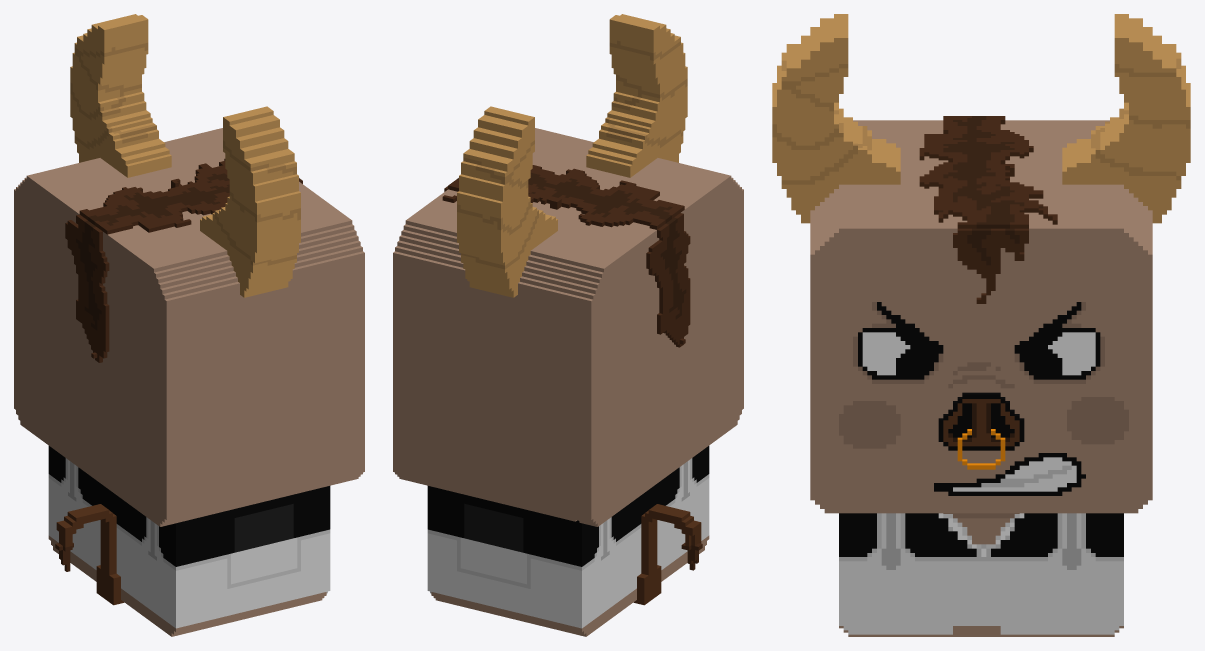
The model's file is NPC_7.obj.
3 renders of one model, left to right at view 1: azimuth 30°, elevation 25°; view 2: azimuth 150°, elevation 25°; view 3: azimuth 270°, elevation 25°, orthographic. The views are drawn at different scales.
Size of the model in its own units: 6.5 by 13.3 by 8.8.
1 material, 1 textured.
